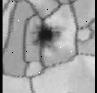good_void: (30, 21, 63, 49)
